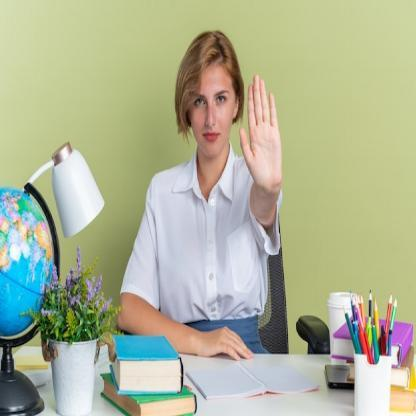stop: (237, 71, 285, 190)
